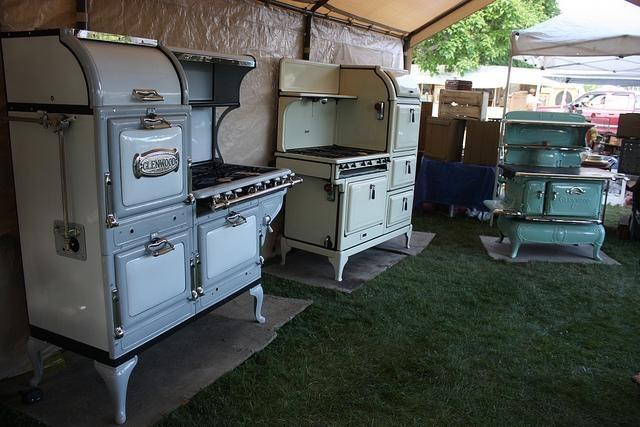truck: (535, 88, 640, 134)
